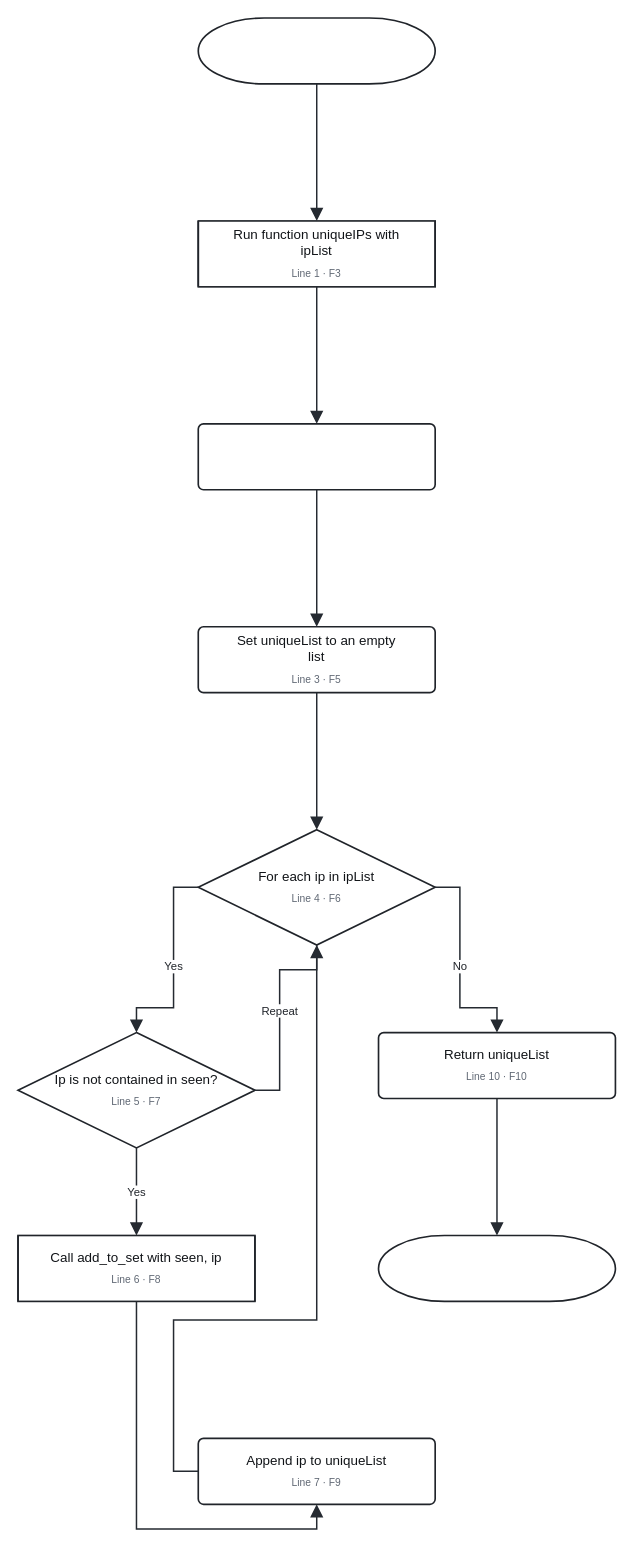
The diagram is 634 pixels wide and 1559 high, and some of its shapes have lost their labels. Each missing label, with the centre of its shape:
"End Line 1 · F2" belongs at pixel 496 1268.
"Set seen to an empty set Line 2 · F4" belongs at pixel 316 456.
"Start Line 1 · F1" belongs at pixel 316 50.
